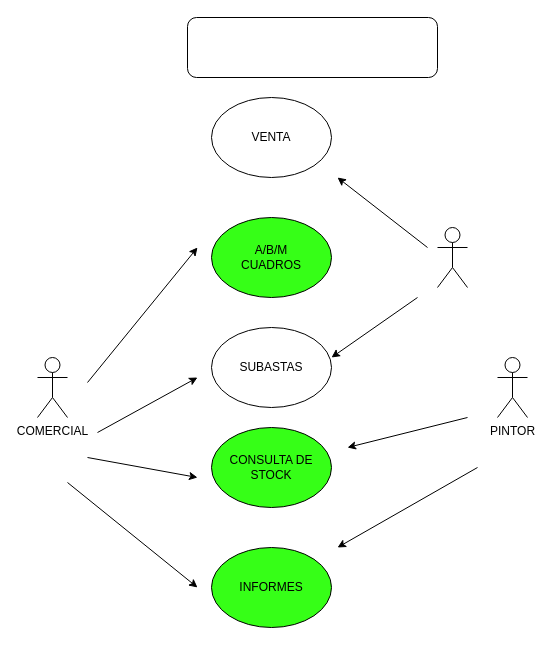
This 552x645 diagram has some shape labels left out. Each missing label, with the centre of its shape:
CLIENTE: point 452,257
DIAGRAMA CASOS DE USO DE AGUSTÍN: point 312,47
